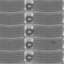dust: (50, 40, 55, 44)
